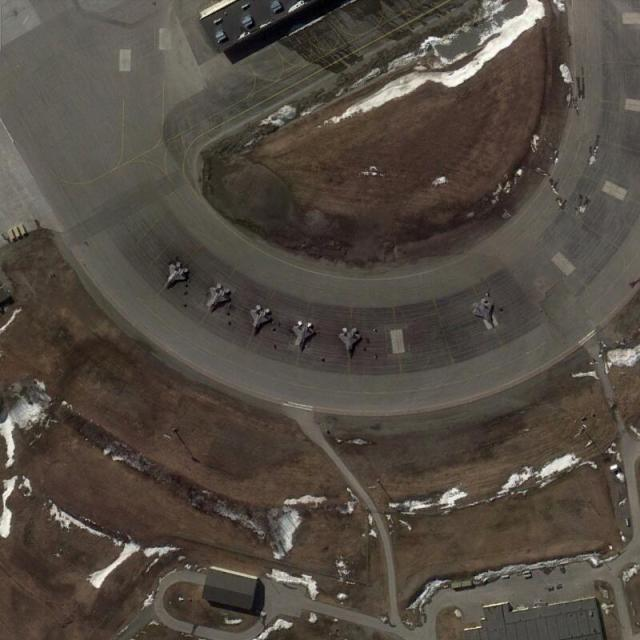fighter jet: (467, 296, 501, 330), (162, 258, 192, 290), (245, 304, 274, 336), (289, 320, 317, 352), (334, 325, 364, 354), (205, 284, 234, 312)
